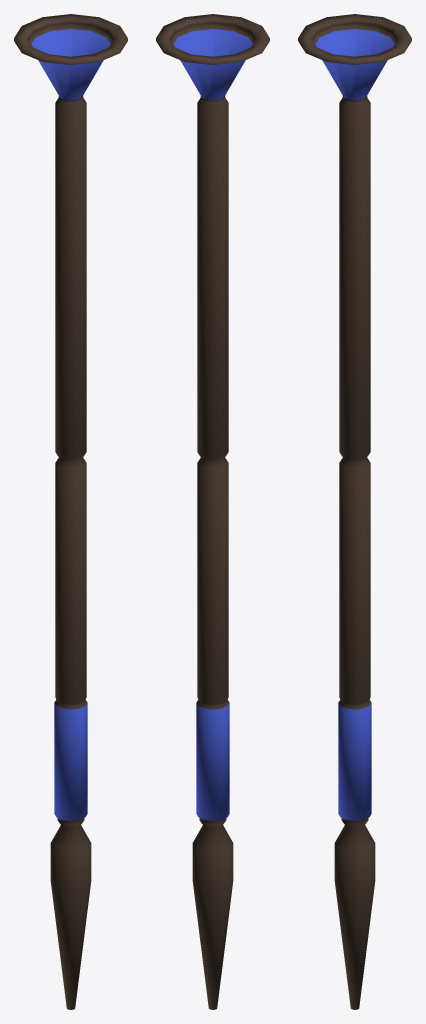
The model's file is staff.fbx.
3 views of the same model, side by side, from view 1: azimuth 30°, elevation 25°; view 2: azimuth 210°, elevation 25°; view 3: azimuth 330°, elevation 25° (orthographic).
Parts seen in each view (by area): view 1: Cylinder; view 2: Cylinder; view 3: Cylinder.
Part boxes in pixels (<box>): Cylinder: <box>14,14,127,1009</box>; Cylinder: <box>156,14,269,1009</box>; Cylinder: <box>298,14,411,1009</box>.
Size of the model in its own units: 5.58 by 52.44 by 5.58.
